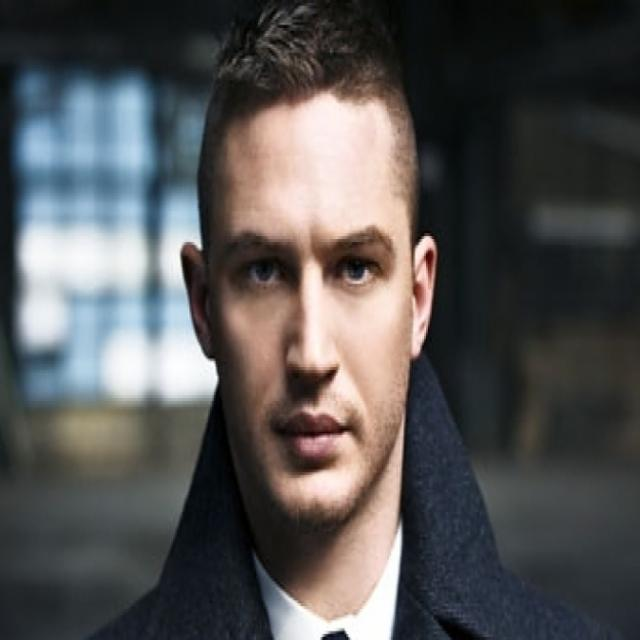human: (82, 4, 611, 640)
